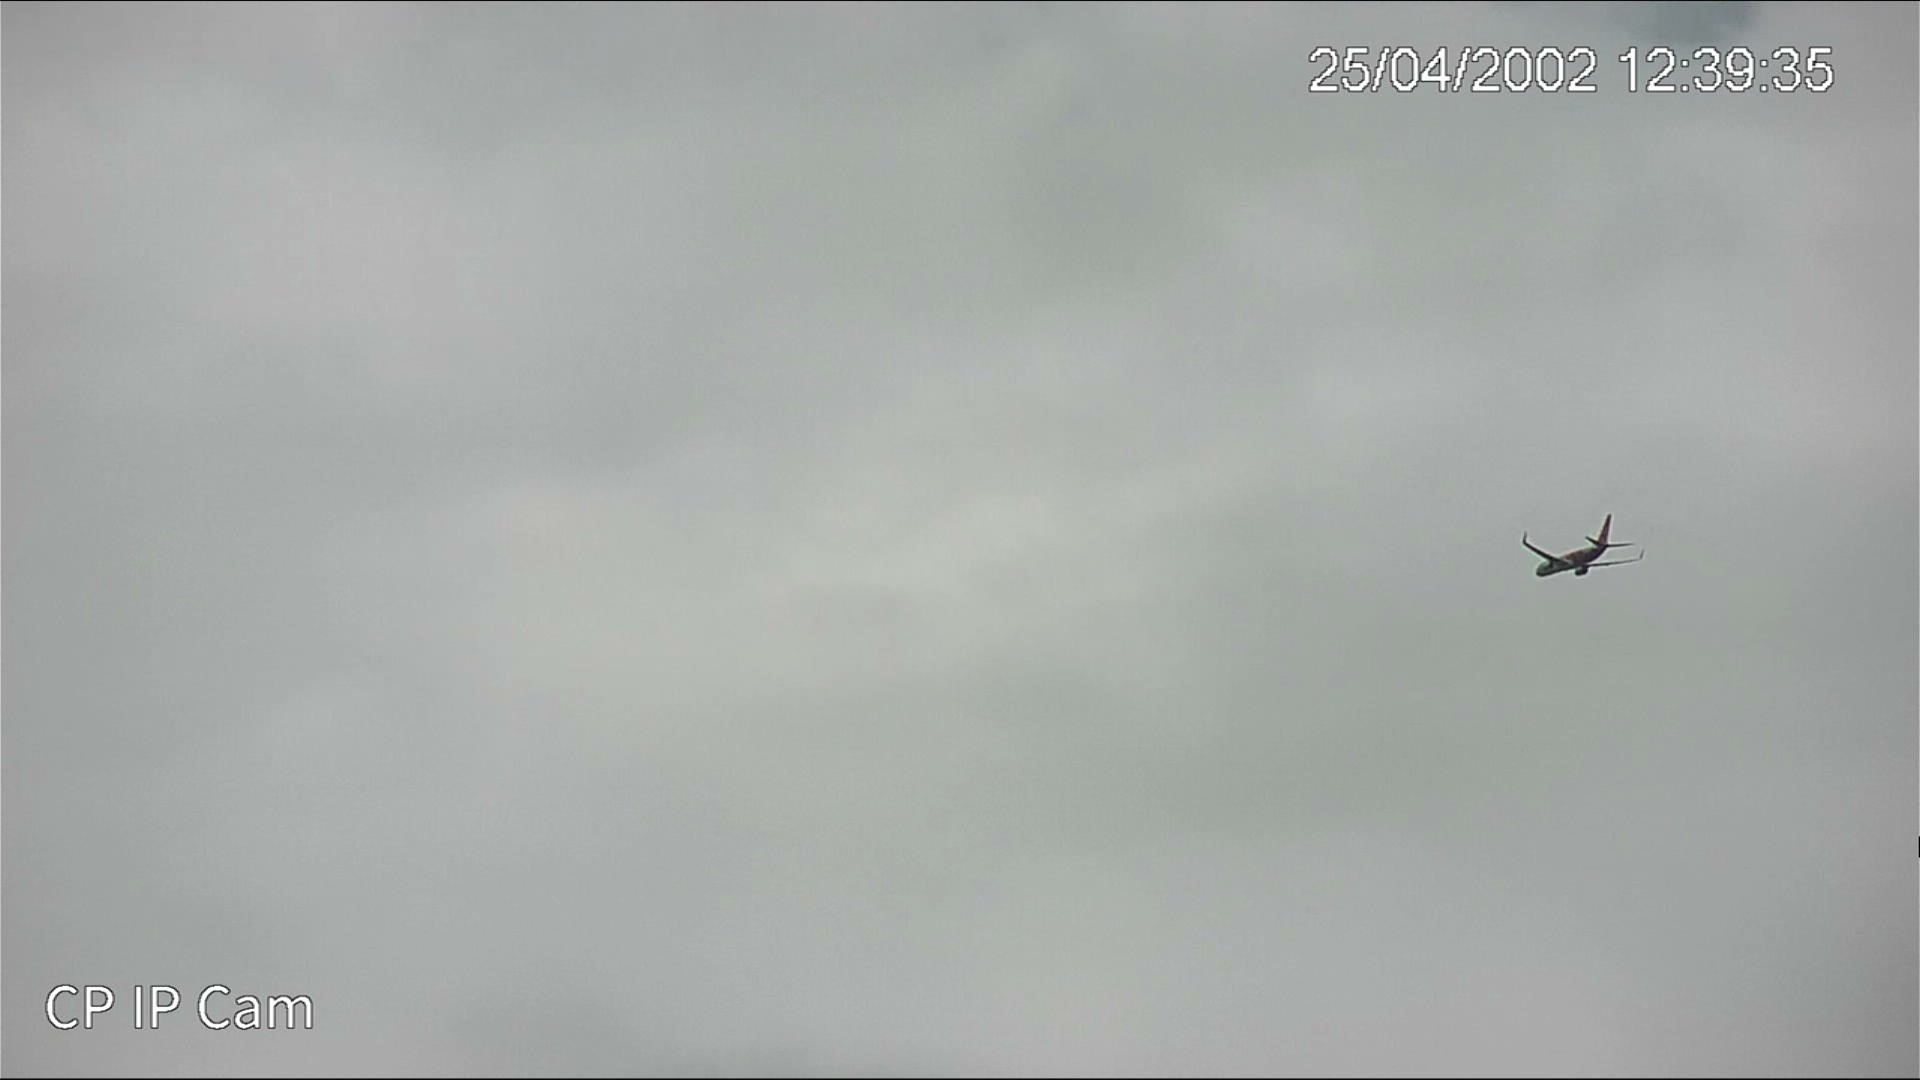SU_30: (1509, 516, 1646, 579)
